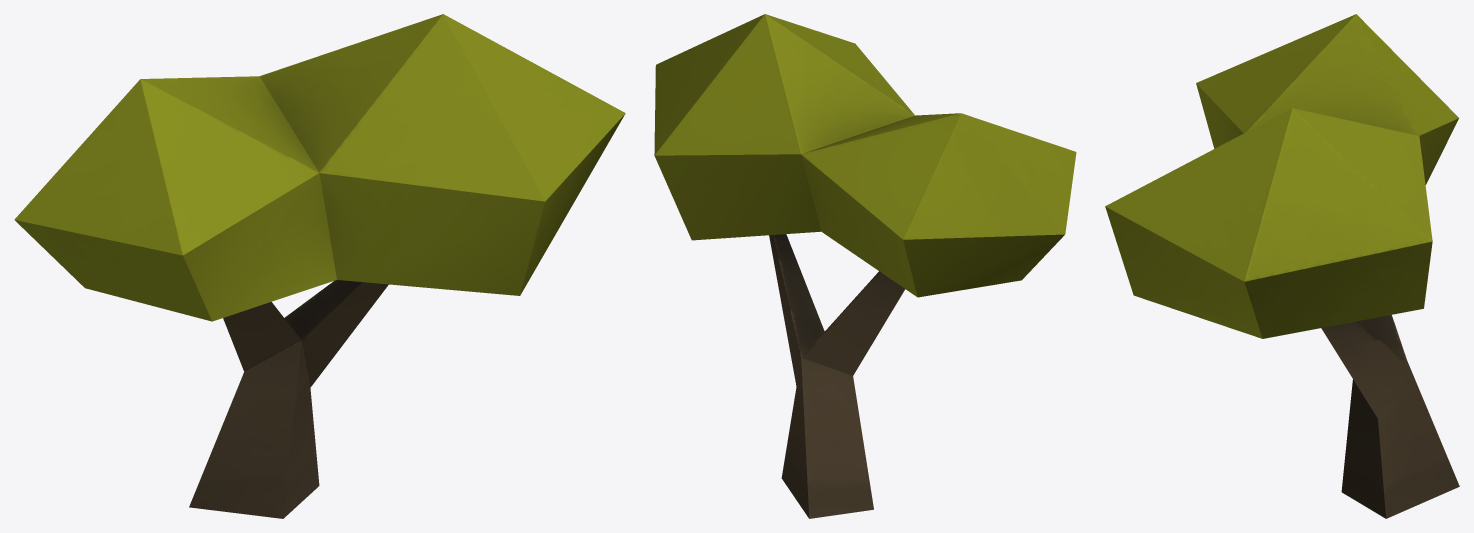
File: Leave_tree_C3_01.FBX
3 views of the same model, side by side, from view 1: azimuth 30°, elevation 25°; view 2: azimuth 150°, elevation 25°; view 3: azimuth 270°, elevation 25° (orthographic). The views are drawn at different scales.
Parts seen in each view (by area): view 1: Leave_tree_C3_01; view 2: Leave_tree_C3_01; view 3: Leave_tree_C3_01.
Boxes of the visible parts, x1,y1,x2,y2 form: Leave_tree_C3_01: (14, 14, 625, 518); Leave_tree_C3_01: (654, 14, 1076, 518); Leave_tree_C3_01: (1105, 14, 1459, 518).
Size of the model in its own units: 52.24 by 32.64 by 44.91.
